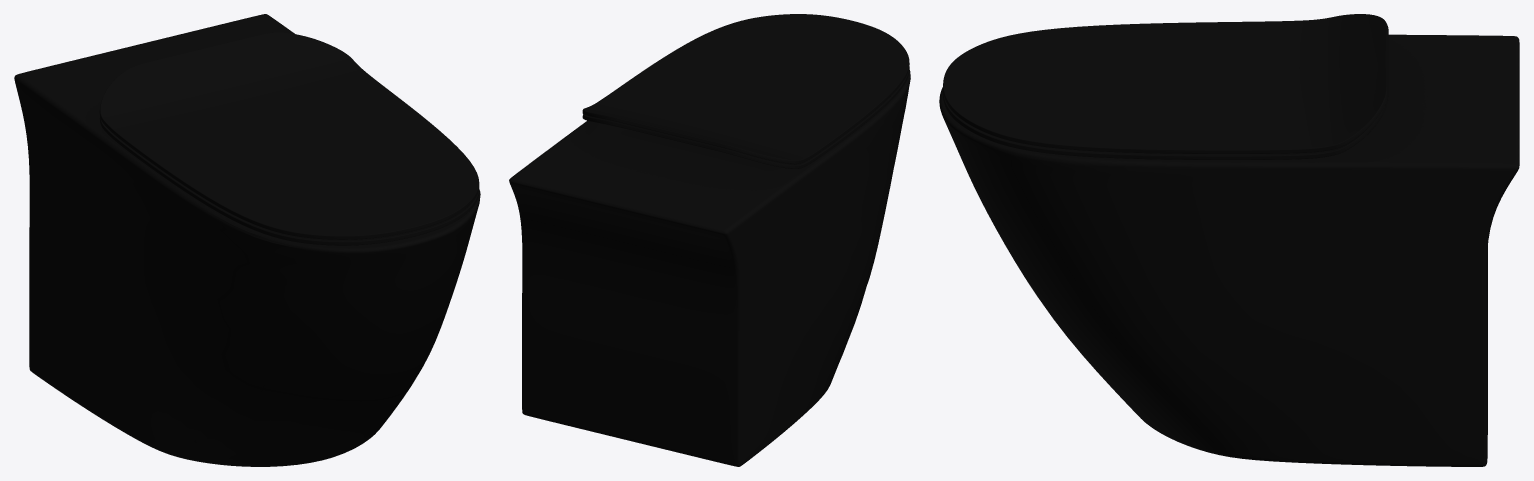
The model's file is Sanitary ware _001(Black).gltf.
3 views of the same model, side by side, from view 1: azimuth 30°, elevation 25°; view 2: azimuth 150°, elevation 25°; view 3: azimuth 270°, elevation 25° (orthographic). The views are drawn at different scales.
Visible parts, largest first — view 1: Sanitary ware _002; view 2: Sanitary ware _002; view 3: Sanitary ware _002.
Part boxes in pixels (x1,y1,x2,y2): Sanitary ware _002: (14, 14, 480, 466); Sanitary ware _002: (509, 14, 910, 466); Sanitary ware _002: (939, 14, 1519, 466).
Bounding box in the file's own units: 0.2978 × 0.3639 × 0.5539.
Materials: 1 (1 with a texture image).
